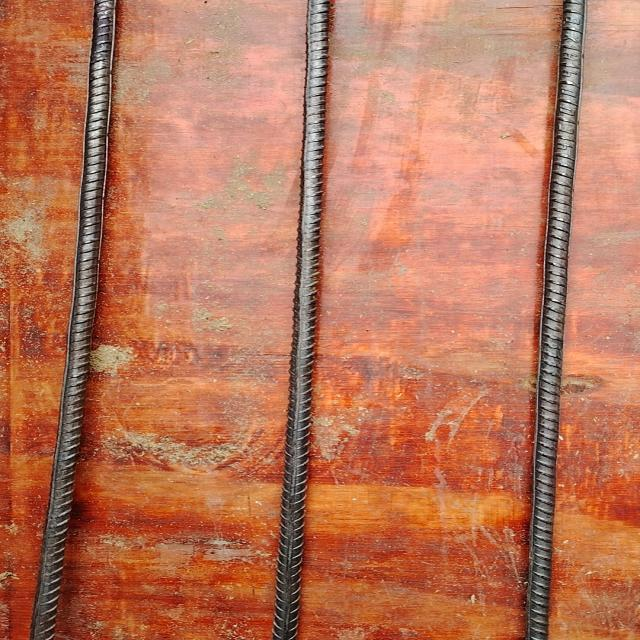ribbed bar: (27, 0, 120, 639), (520, 0, 587, 639), (270, 0, 332, 639)
